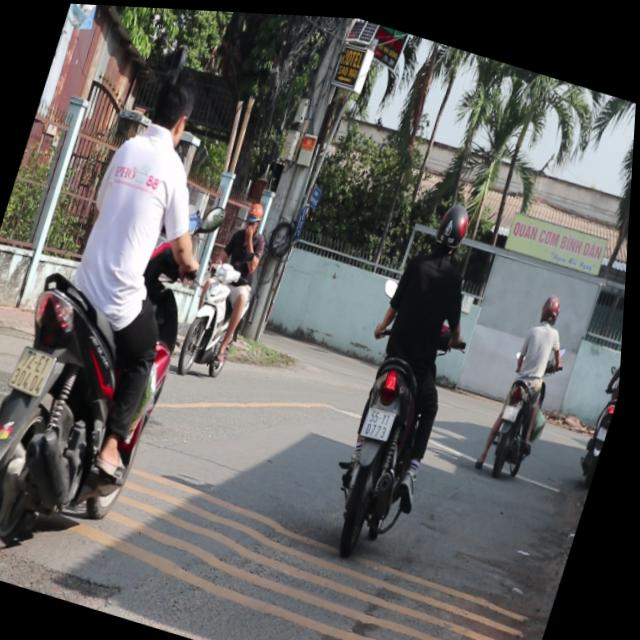helmet: (430, 192, 476, 258), (539, 285, 566, 320), (243, 195, 268, 229)
licenseplate: (0, 38, 261, 579), (315, 176, 509, 557), (475, 278, 587, 485), (176, 186, 283, 385)
motorcyclist: (138, 61, 204, 148)
nohelmet: (12, 343, 60, 394), (365, 400, 400, 438), (506, 397, 523, 416)
